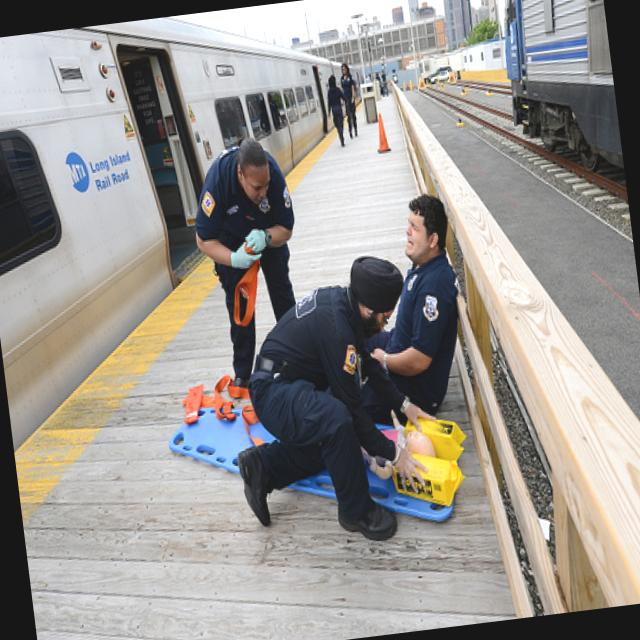Vehicle: (428, 66, 452, 84)
